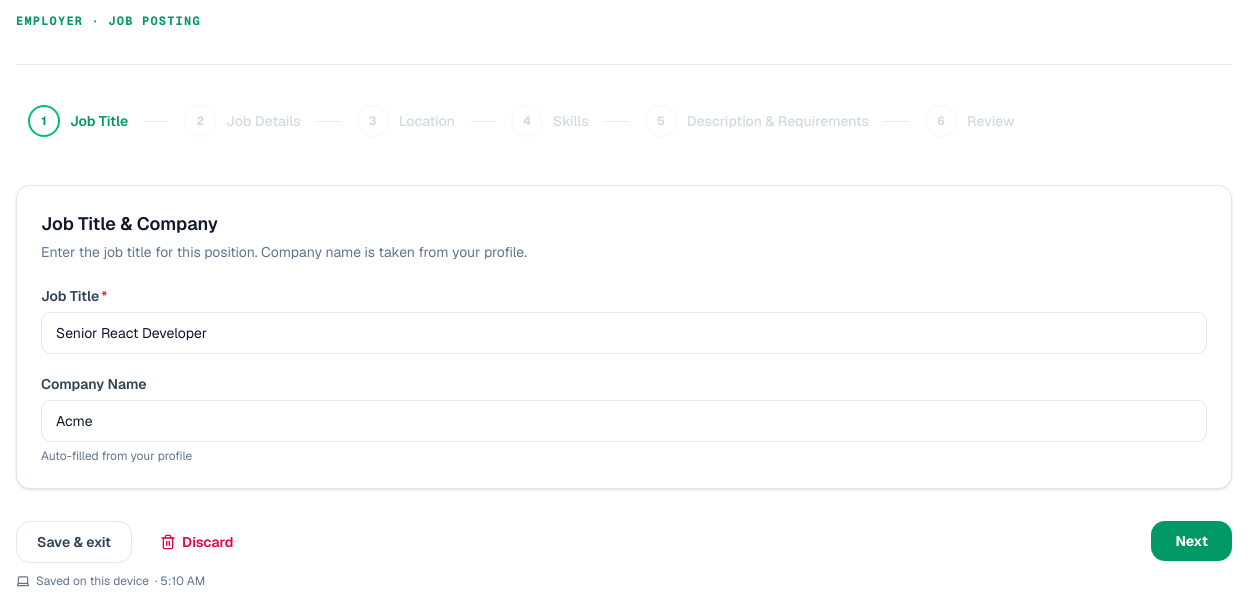
Test case: CreateJobView local backup › says the draft is saved to the account after Save & exit
Check: the text "Saved on this device" is shown, box [36,573,149,589]
Click the button "Save & exit". click: x=74, y=542
box: [16,521,132,563]
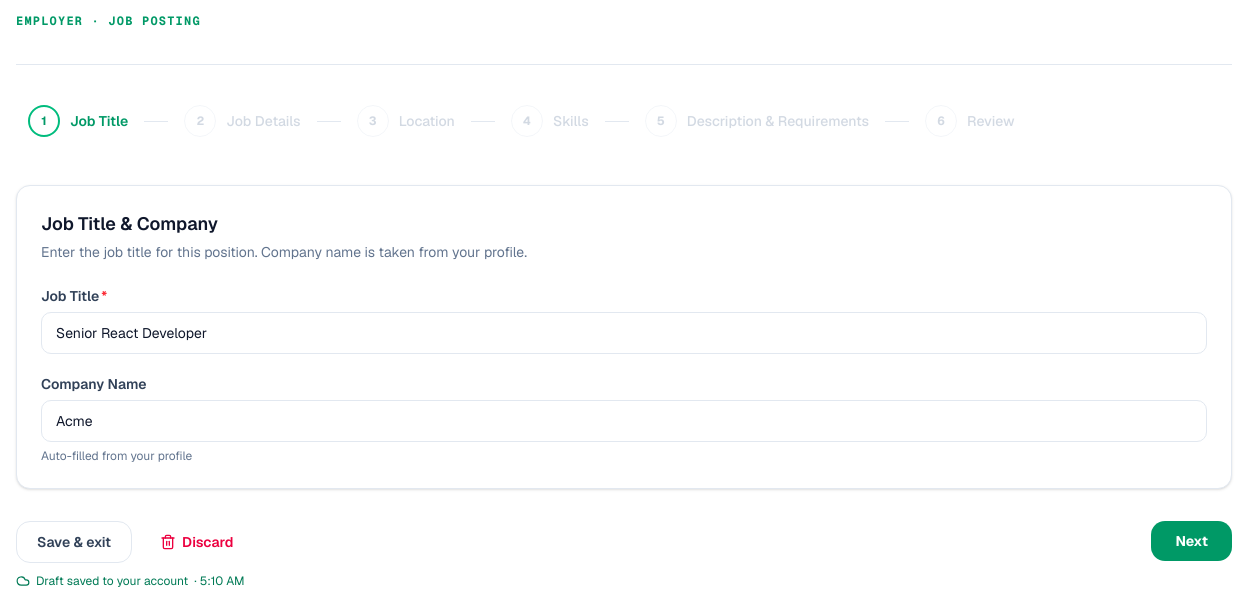
Check: the text "Draft saved to your account" is shown, box [36,573,188,589]
Check: the button "Saved on this device" is gone
